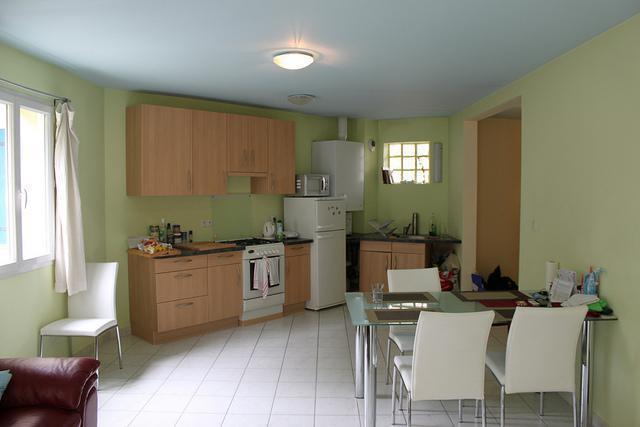Lavaplatos: (379, 217, 428, 241)
